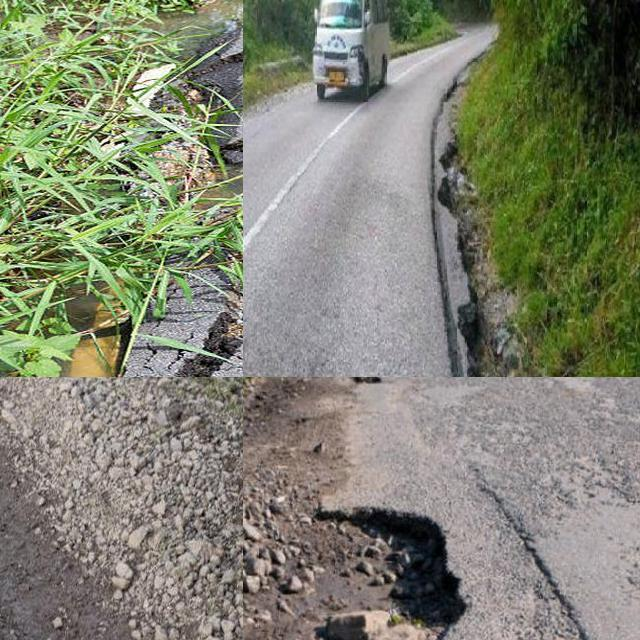Pinggir: (0, 377, 174, 640), (125, 0, 243, 377), (267, 493, 479, 640), (413, 97, 518, 377)
